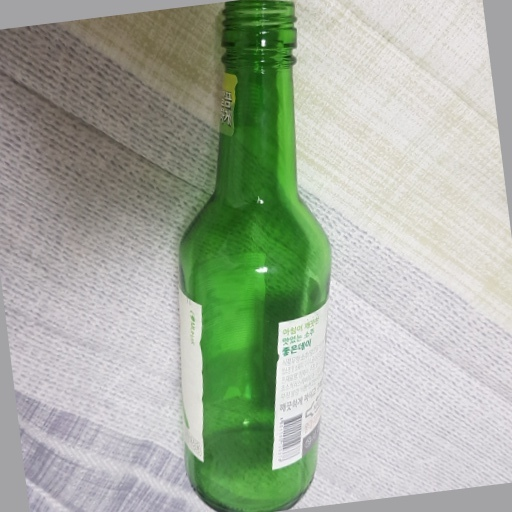Glass_0: (167, 3, 338, 512)
